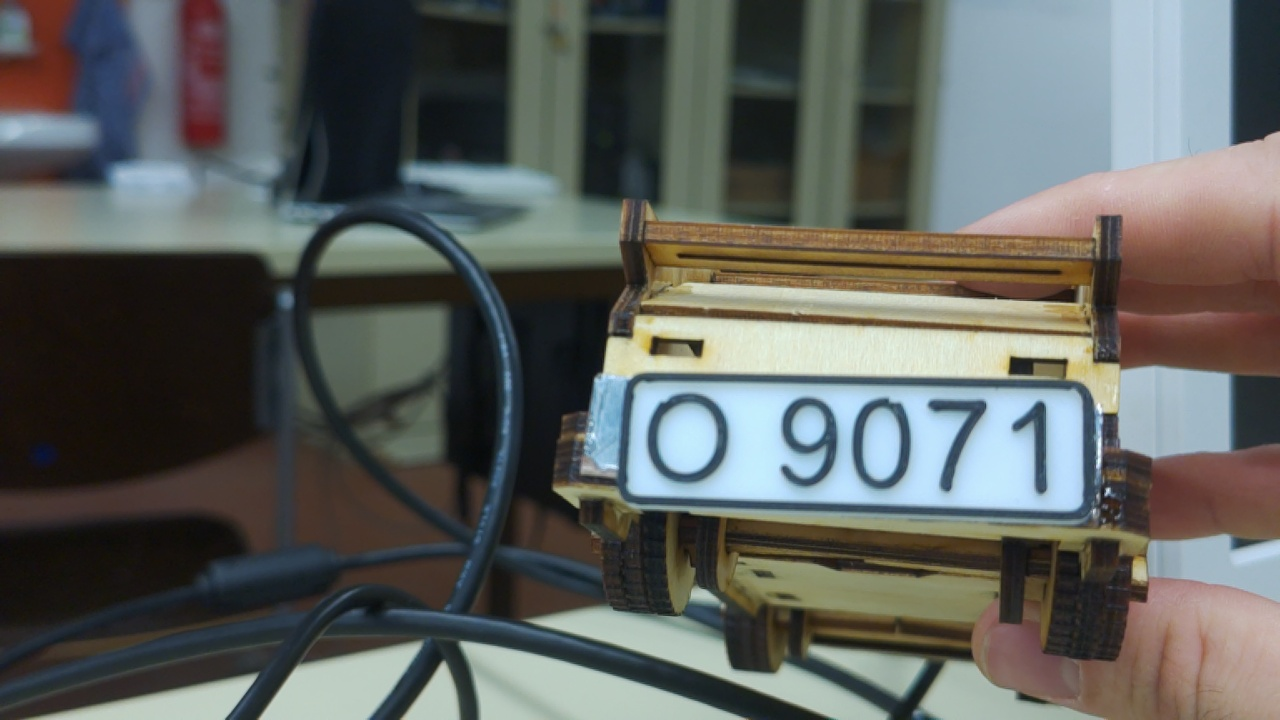license_plate: (615, 361, 1104, 531)
